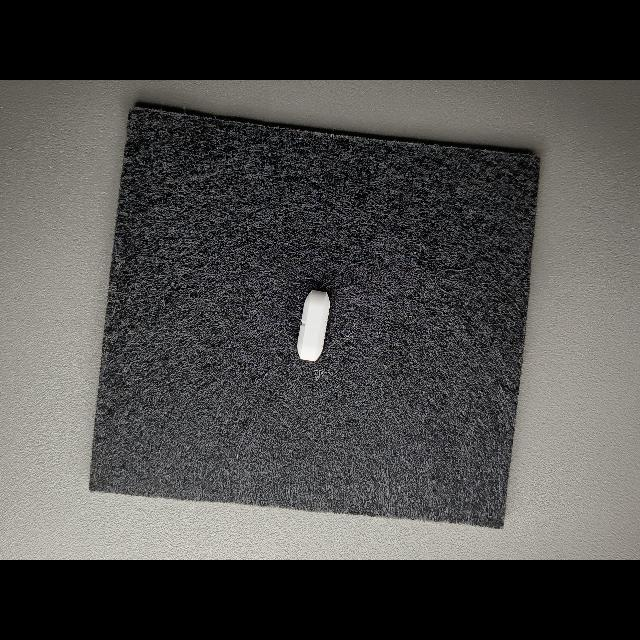Intact Pill: (297, 290, 330, 361)
